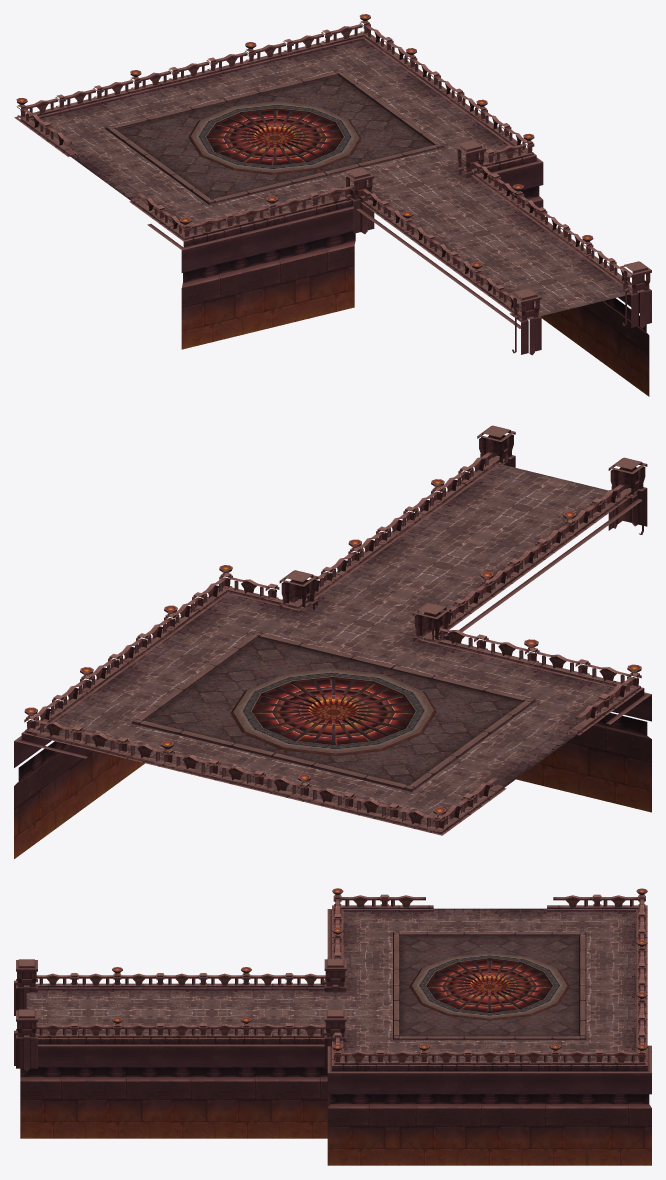
File: Dungeons_03_02_05.FBX
3 renders of one model, top to bottom at view 1: azimuth 30°, elevation 25°; view 2: azimuth 150°, elevation 25°; view 3: azimuth 270°, elevation 25°, orthographic. The views are drawn at different scales.
Visible parts, largest first — view 1: Object361; view 2: Object361; view 3: Object361.
Part boxes in pixels (x1=…): Object361: x1=14, y1=14, x2=651, y2=396; Object361: x1=14, y1=425, x2=651, y2=858; Object361: x1=14, y1=888, x2=651, y2=1165.
Size of the model in its own units: 303 by 105 by 499.
